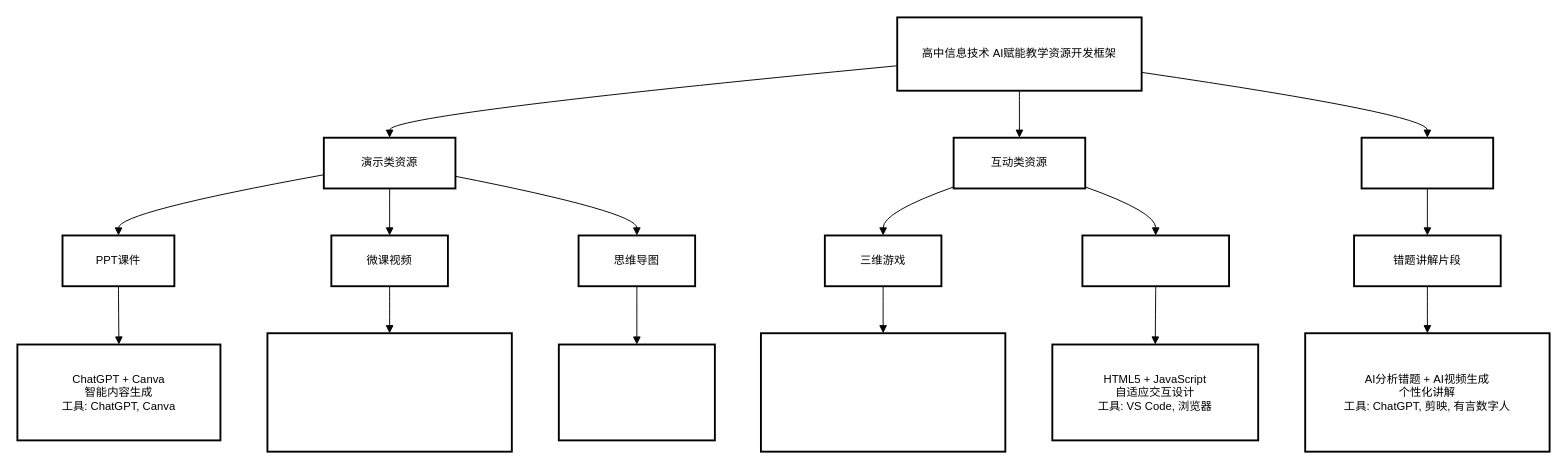
Image size: 1566x468. Some labels were removed from this diagram. Each missing label, with the centre of its shape:
"UE5 + Blender 沉浸式学习体验 工具: Unreal Engine 5, Blender" goes at point 883,392.
"XMind + AI美化 自动布局优化 工具: XMind" goes at point 636,392.
"互动网页游戏" goes at point 1155,260.
"剪映 + AI数字人 + AI视频生成 视频自动化制作 工具: 剪映, 有言数字人" goes at point 389,392.
"辅助类资源" goes at point 1427,162.
